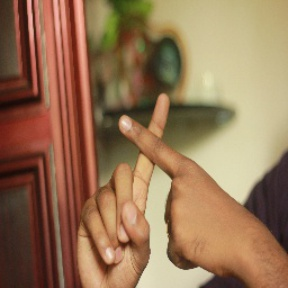X: (80, 85, 233, 231)
